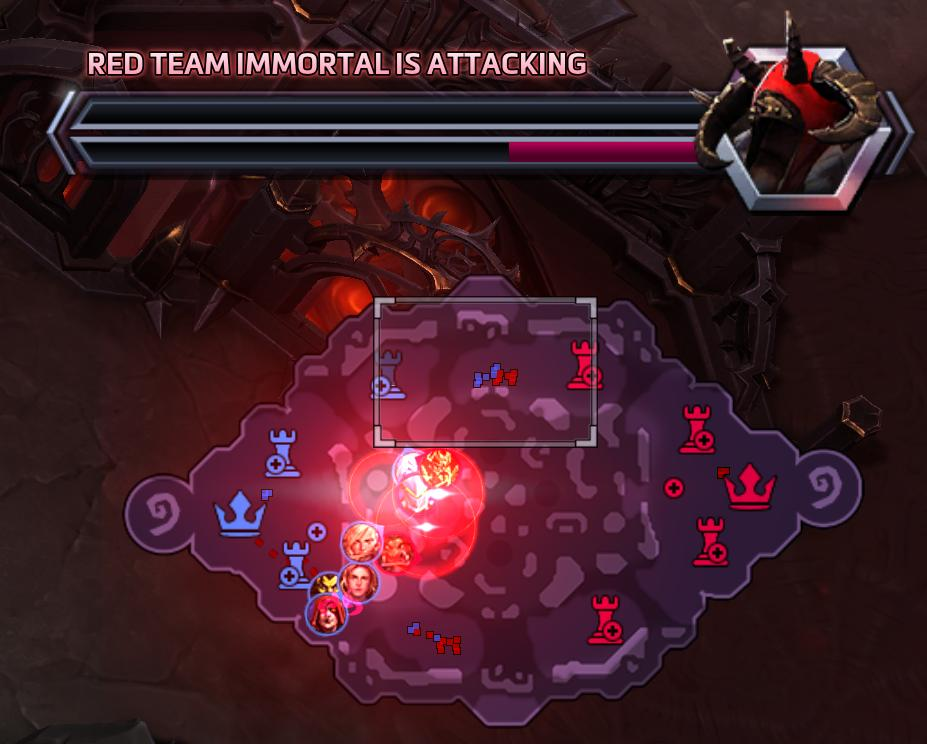blue nexus: (212, 486, 270, 537)
blue player: (391, 471, 441, 517), (339, 560, 382, 605), (340, 521, 383, 564), (305, 593, 348, 636), (306, 568, 344, 611)
blue tower: (261, 429, 306, 482), (276, 539, 316, 593), (369, 346, 407, 400)
red nexus: (719, 457, 776, 512)
red player: (415, 447, 461, 490), (379, 533, 416, 569)
red tower: (561, 338, 606, 391), (583, 591, 627, 644), (688, 514, 728, 571), (675, 402, 718, 453)
